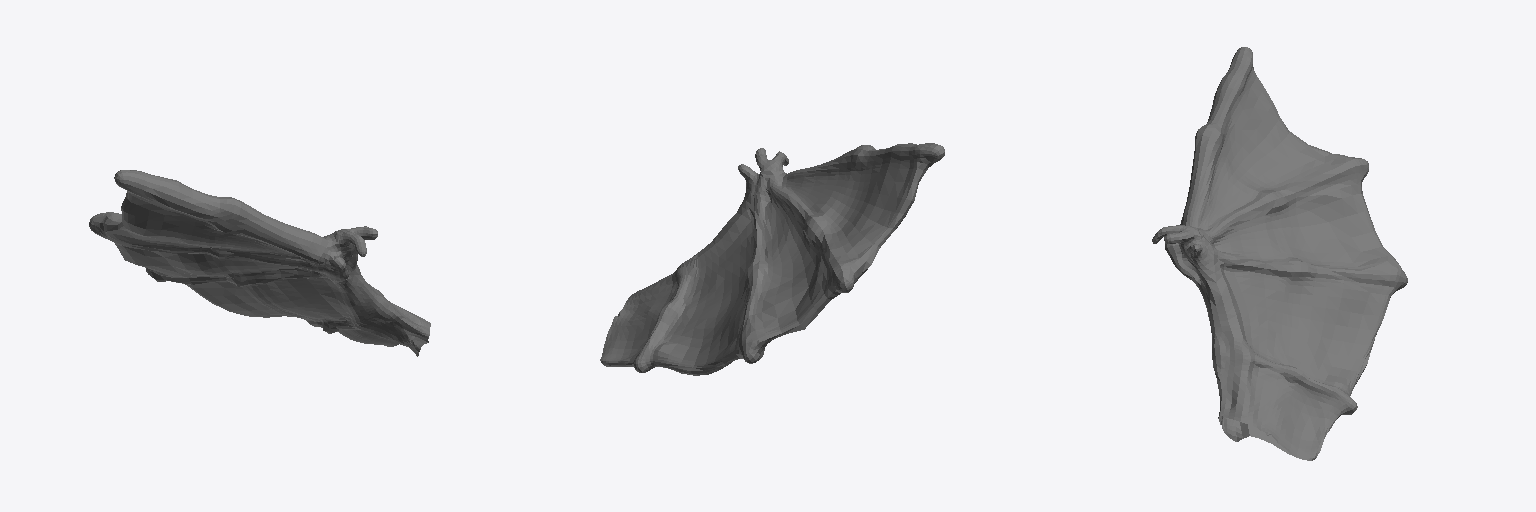
Rendered from AlaI.obj.
3 renders of one model, left to right at view 1: azimuth 30°, elevation 25°; view 2: azimuth 150°, elevation 25°; view 3: azimuth 270°, elevation 25°, orthographic.
Visible parts, largest first — view 1: AlaI; view 2: AlaI; view 3: AlaI.
Part boxes in pixels (x1,y1,x2,y2): AlaI: (89,170,430,356); AlaI: (600,143,944,375); AlaI: (1152,47,1407,460).
Bounding box in the file's own units: 8.91 × 7.26 × 6.22.